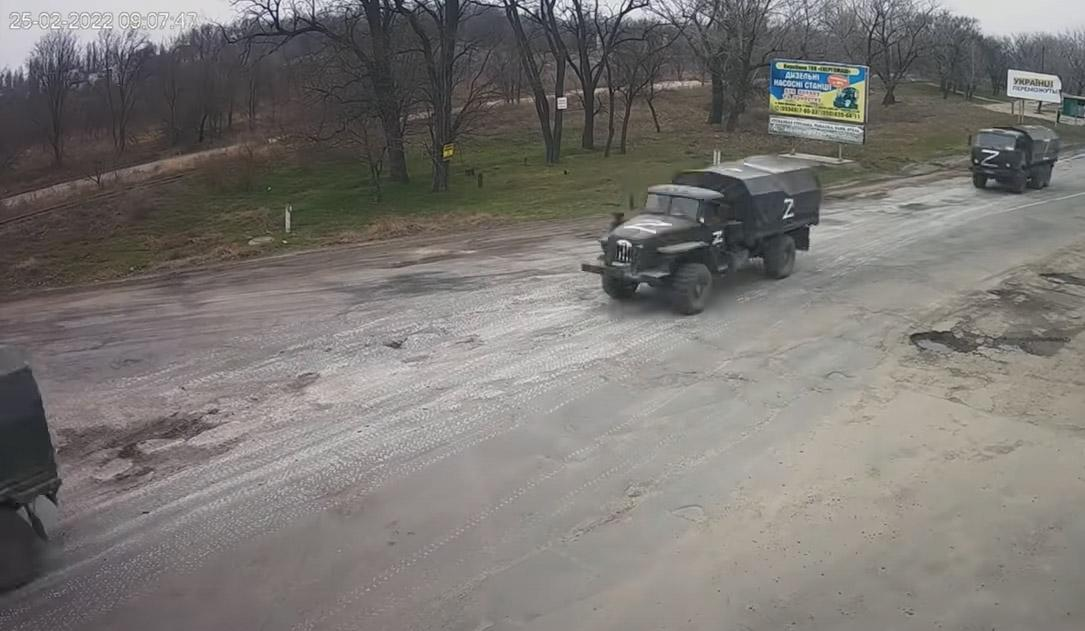truck: (582, 152, 831, 308), (0, 310, 81, 596), (964, 116, 1063, 202)
